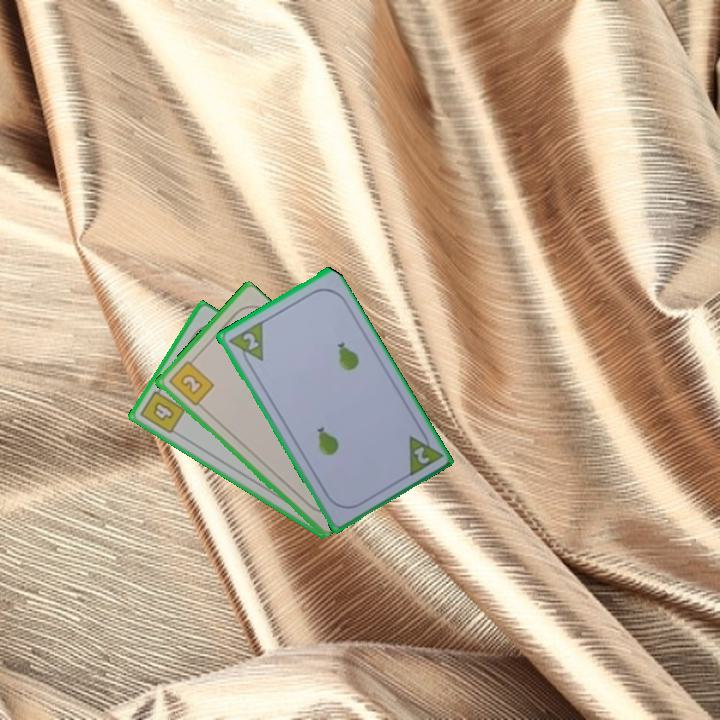2b: (165, 354, 216, 409)
2p: (224, 318, 266, 370), (404, 425, 444, 479)
4b: (136, 382, 188, 437)
